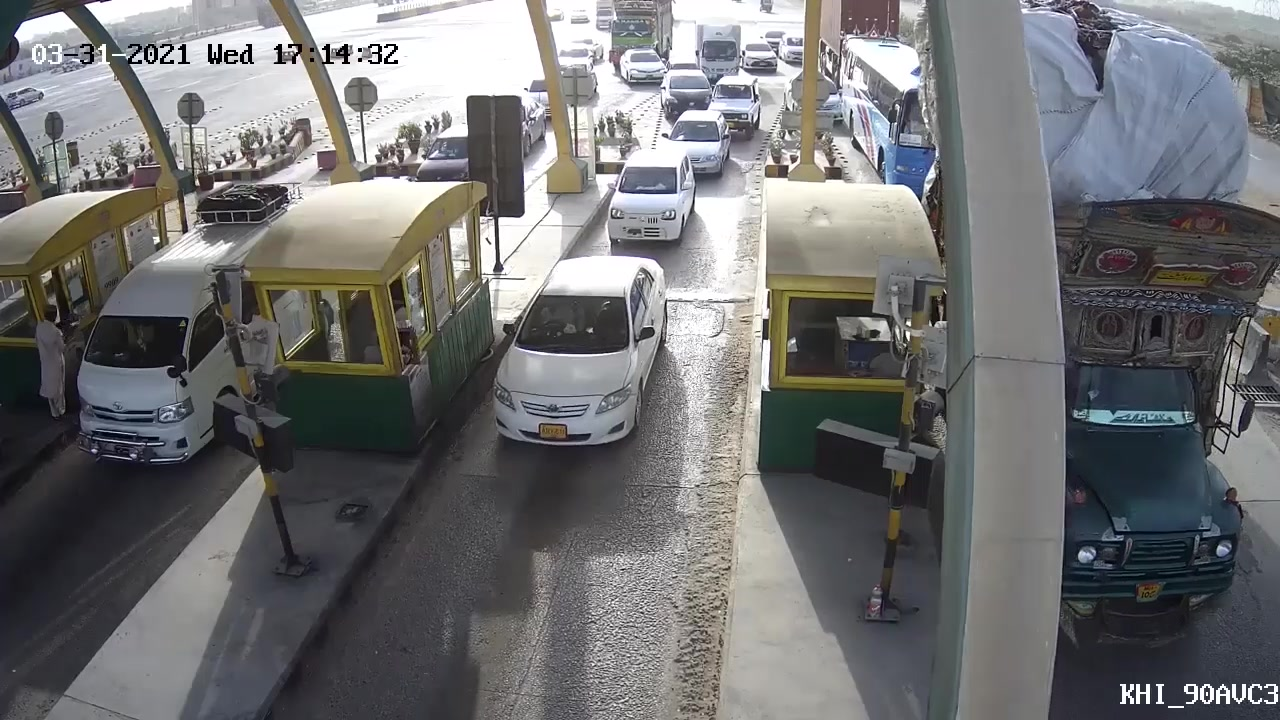F1: (489, 249, 669, 469), (599, 149, 700, 246)
